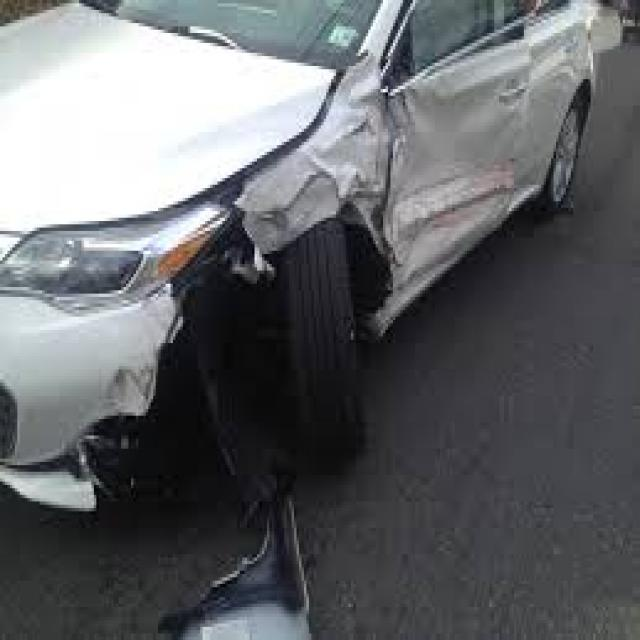severe: (53, 65, 467, 631)
